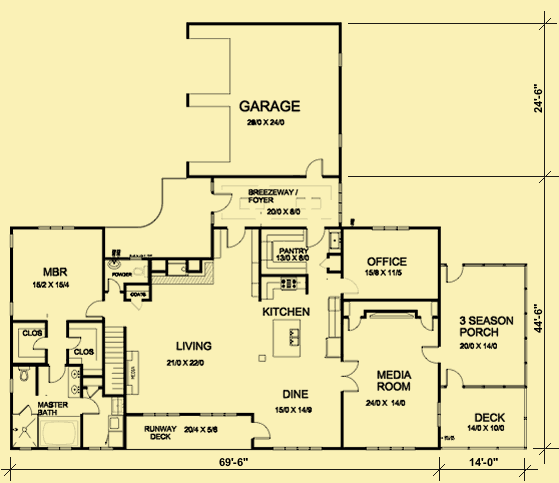door: (339, 355, 361, 394), (210, 190, 236, 216), (222, 225, 248, 249), (442, 367, 468, 390), (305, 225, 327, 249), (301, 157, 325, 178), (335, 276, 360, 296), (82, 299, 105, 318), (251, 421, 274, 439), (48, 363, 68, 383), (446, 263, 465, 284), (421, 345, 441, 364), (418, 316, 436, 333), (31, 335, 49, 350), (345, 317, 363, 331), (105, 278, 122, 291)
large_sink: (17, 366, 32, 385)
stairs: (103, 325, 128, 399)
tub: (36, 415, 84, 448)
twin_sink: (289, 326, 303, 349)
